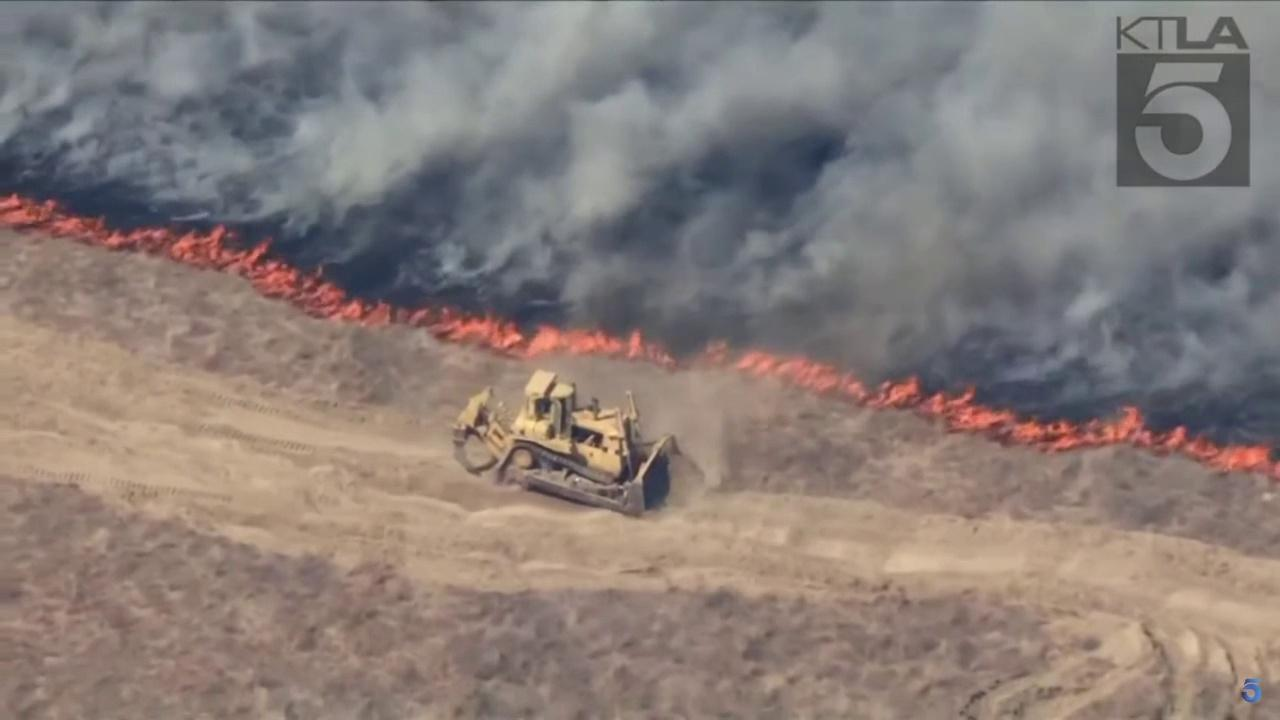fire: (0, 189, 1280, 486)
smoke: (0, 0, 1280, 428)
